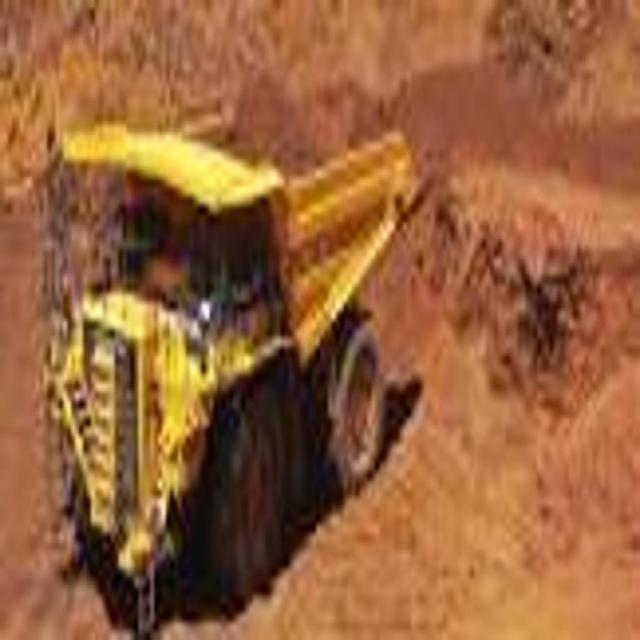dump_truck: (38, 70, 422, 636)
